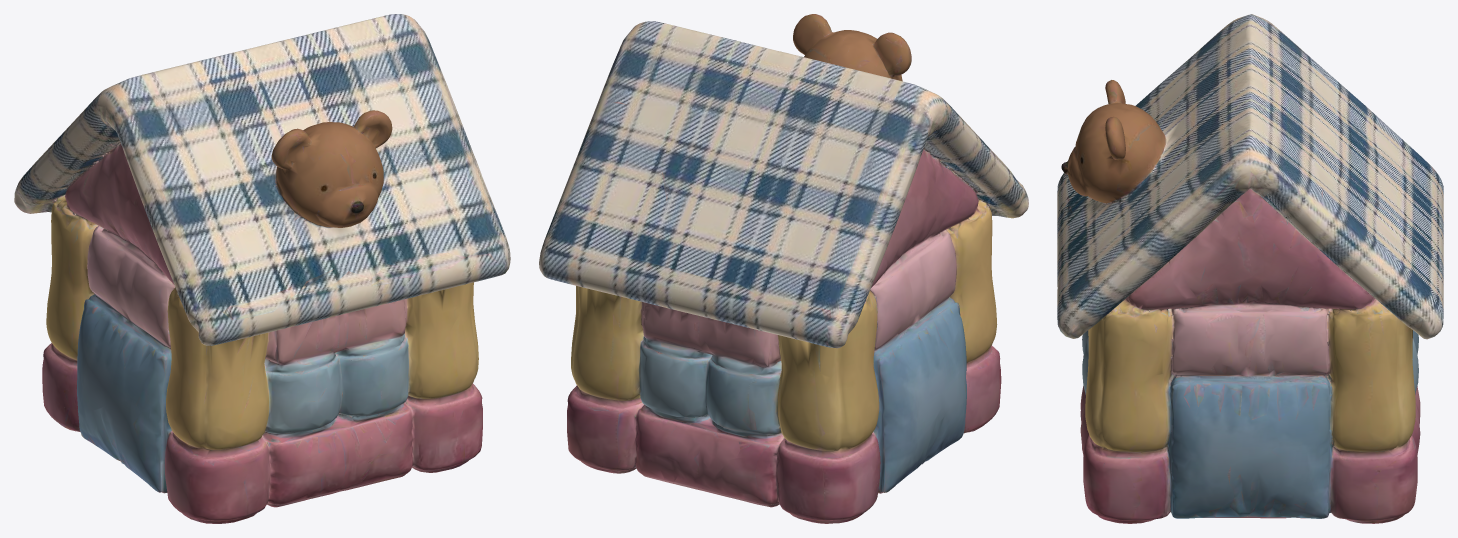
File: house-plush.glb
3 views of the same model, side by side, from view 1: azimuth 30°, elevation 25°; view 2: azimuth 150°, elevation 25°; view 3: azimuth 270°, elevation 25° (orthographic). The views are drawn at different scales.
Parts seen in each view (by area): view 1: Mesh_0; view 2: Mesh_0; view 3: Mesh_0.
Boxes of the visible parts, bbox=[...] form: Mesh_0: bbox=[14, 14, 510, 523]; Mesh_0: bbox=[539, 14, 1028, 523]; Mesh_0: bbox=[1057, 14, 1443, 523].
Bounding box in the file's own units: 1.63 × 1.91 × 1.75.
1 material, 1 textured.
